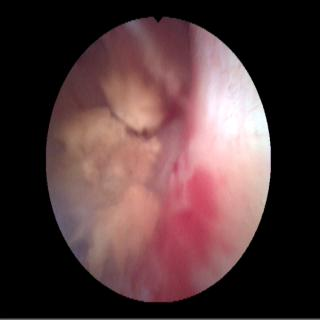stone: (50, 109, 160, 274), (102, 70, 164, 134)
tissue: (63, 21, 265, 296)
